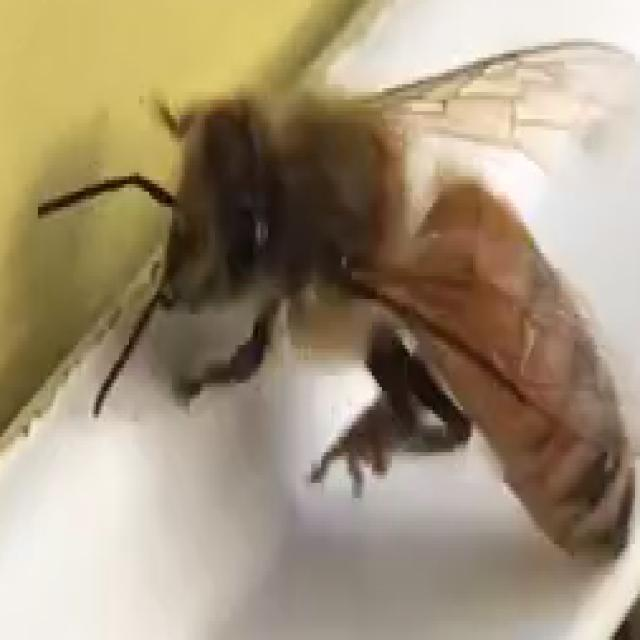honeybee: (90, 54, 640, 582)
